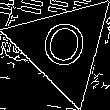O_S: (36, 16, 91, 77)
